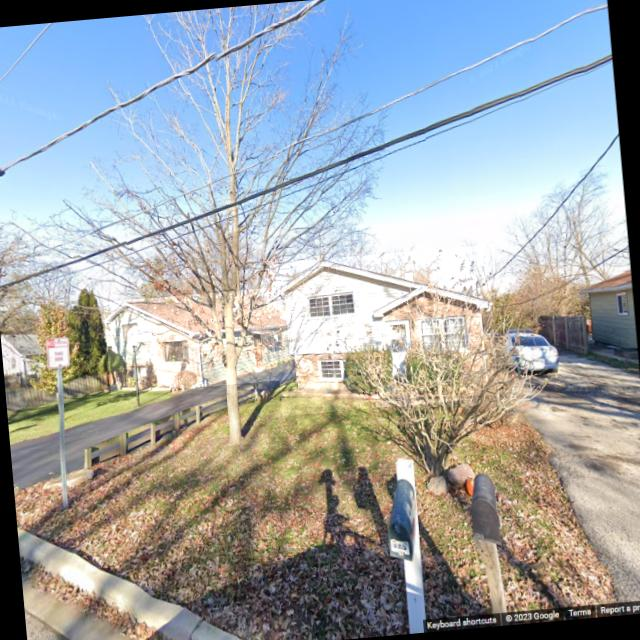House: (269, 244, 500, 416), (102, 286, 290, 394), (577, 272, 638, 356)
